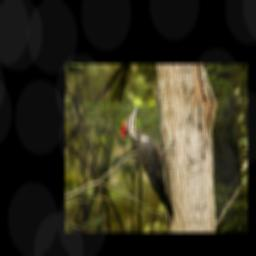Woodpecker: (119, 102, 179, 225)
